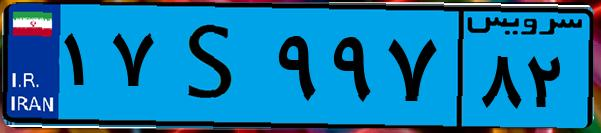1: (57, 26, 110, 100)
2: (525, 38, 570, 115)
7: (385, 28, 445, 110), (110, 28, 158, 98)
8: (475, 38, 525, 113)
9: (270, 28, 330, 110), (330, 28, 385, 110)
S: (158, 12, 270, 120)
